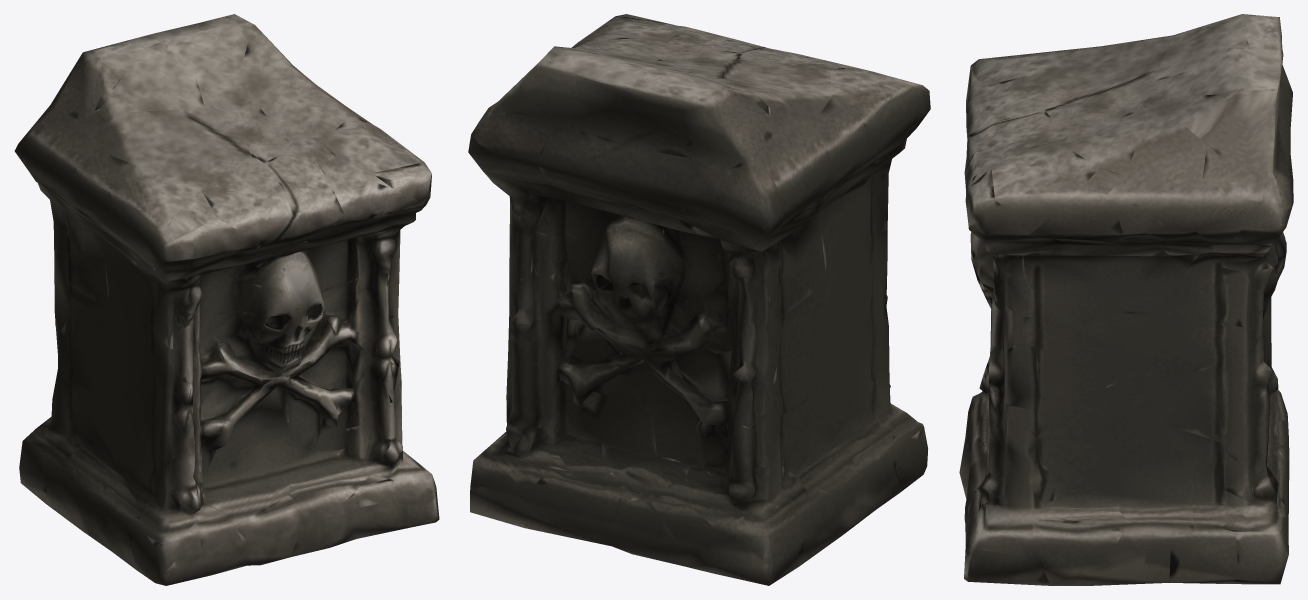
The model's file is sarcophagus.glb.
3 renders of one model, left to right at view 1: azimuth 30°, elevation 25°; view 2: azimuth 150°, elevation 25°; view 3: azimuth 270°, elevation 25°, orthographic. The views are drawn at different scales.
Bounding box in the file's own units: 1.38 × 2 × 1.31.
1 material, 1 textured.
